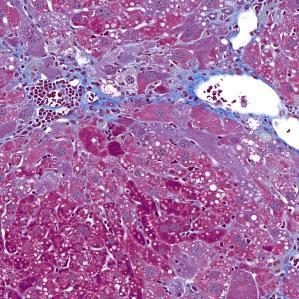fibrosis: (7, 39, 137, 127)
